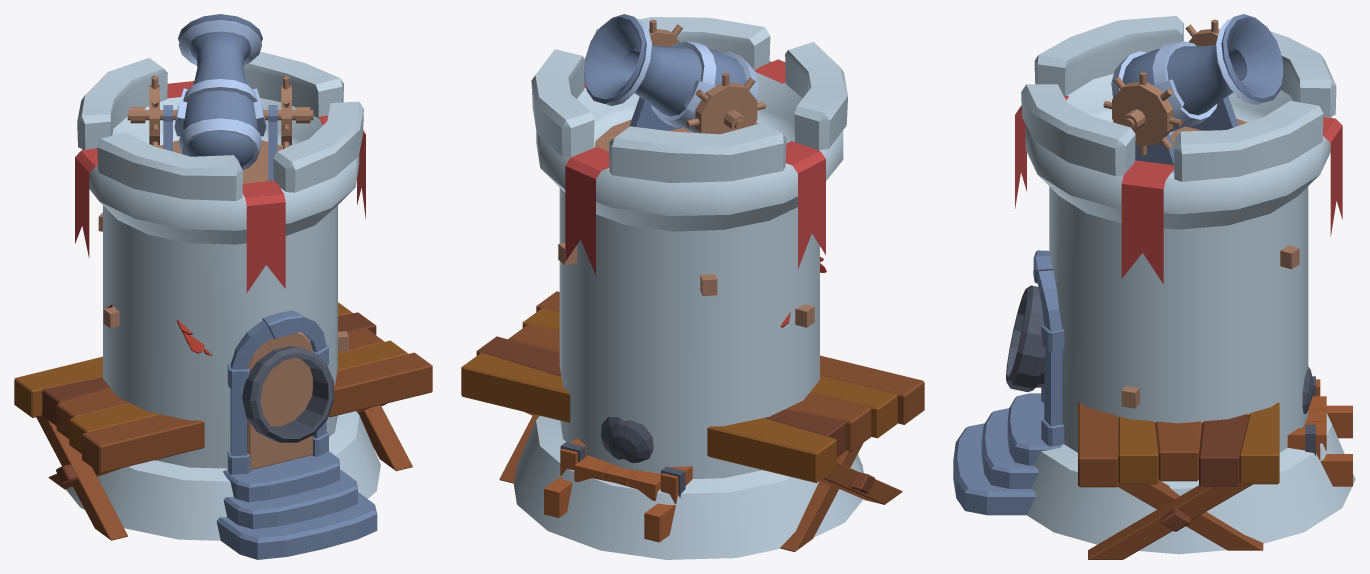
Rendered from Small Building.fbx.
The picture shows the model from 3 angles, left to right: view 1: azimuth 30°, elevation 25°; view 2: azimuth 150°, elevation 25°; view 3: azimuth 270°, elevation 25°; orthographic projection. The views are drawn at different scales.
Visible parts, largest first — view 1: Tower, Table, Cannon; view 2: Tower, Table, Cannon; view 3: Tower, Table, Cannon.
Part boxes in pixels (box(x1,y1,x2,y2)): Tower: box(66, 14, 380, 559); Table: box(14, 302, 432, 540); Cannon: box(242, 346, 334, 442); Tower: box(513, 14, 863, 559); Table: box(461, 291, 924, 551); Cannon: box(544, 416, 692, 542); Tower: box(953, 14, 1355, 554); Table: box(1078, 402, 1279, 559); Cannon: box(1006, 285, 1352, 486).
Size of the model in its own units: 821 by 1030 by 784.
